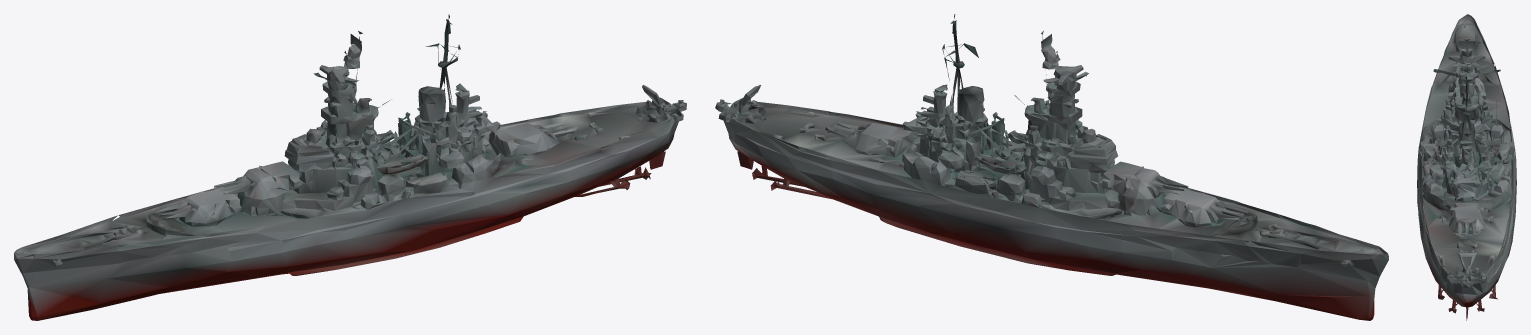
File: battleship.glb
3 views of the same model, side by side, from view 1: azimuth 30°, elevation 25°; view 2: azimuth 150°, elevation 25°; view 3: azimuth 270°, elevation 25° (orthographic). The views are drawn at different scales.
Visible parts, largest first — view 1: battleship; view 2: battleship; view 3: battleship.
Boxes of the visible parts, box(x1,y1,x2,y2) form: battleship: box(14, 14, 686, 320); battleship: box(715, 14, 1388, 320); battleship: box(1417, 14, 1516, 320).
Size of the model in its own units: 1.9 by 0.5656 by 0.3079.
